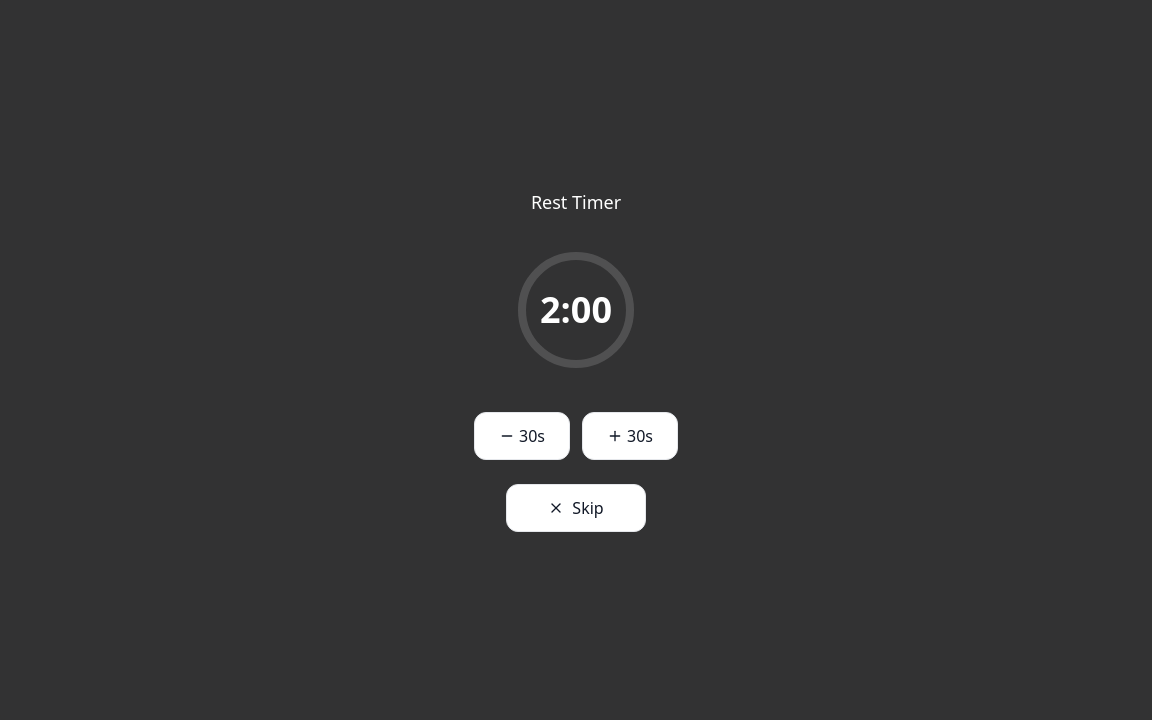
Test: RestTimer › subtracts 30 seconds from the remaining time
Click the button named "subtract 30 seconds". click: (522, 436)
box: [474, 412, 570, 460]
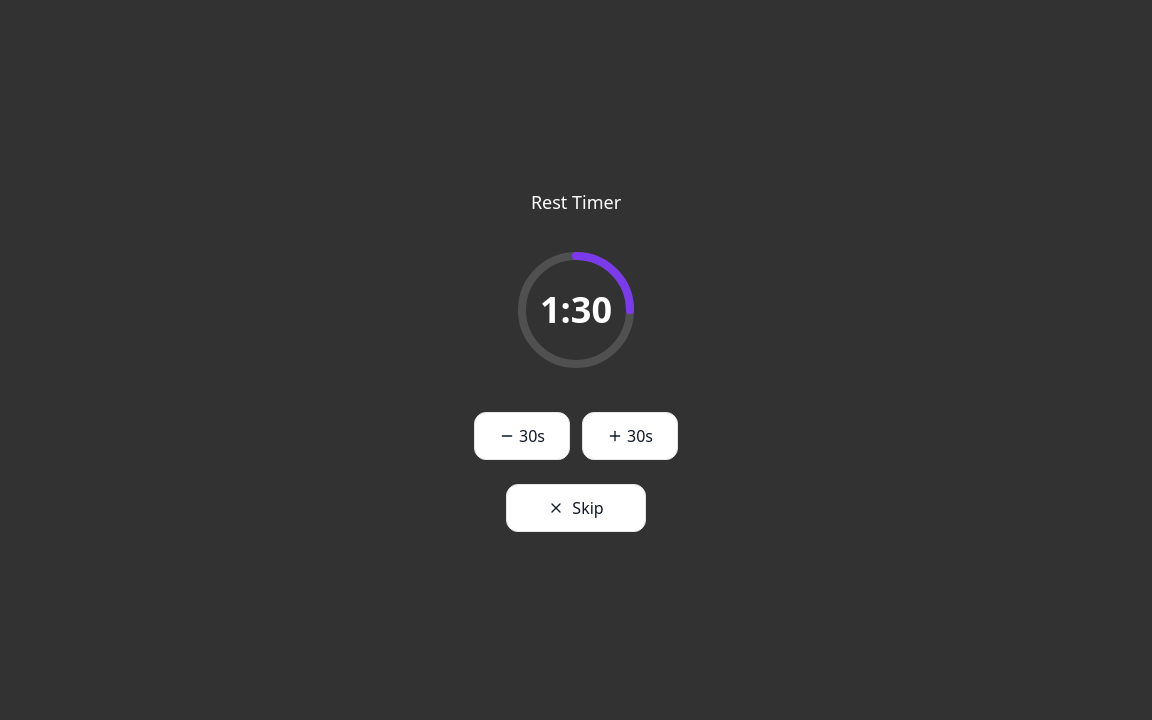
Expected: the text "1:30" is shown, [540, 290, 612, 330]
